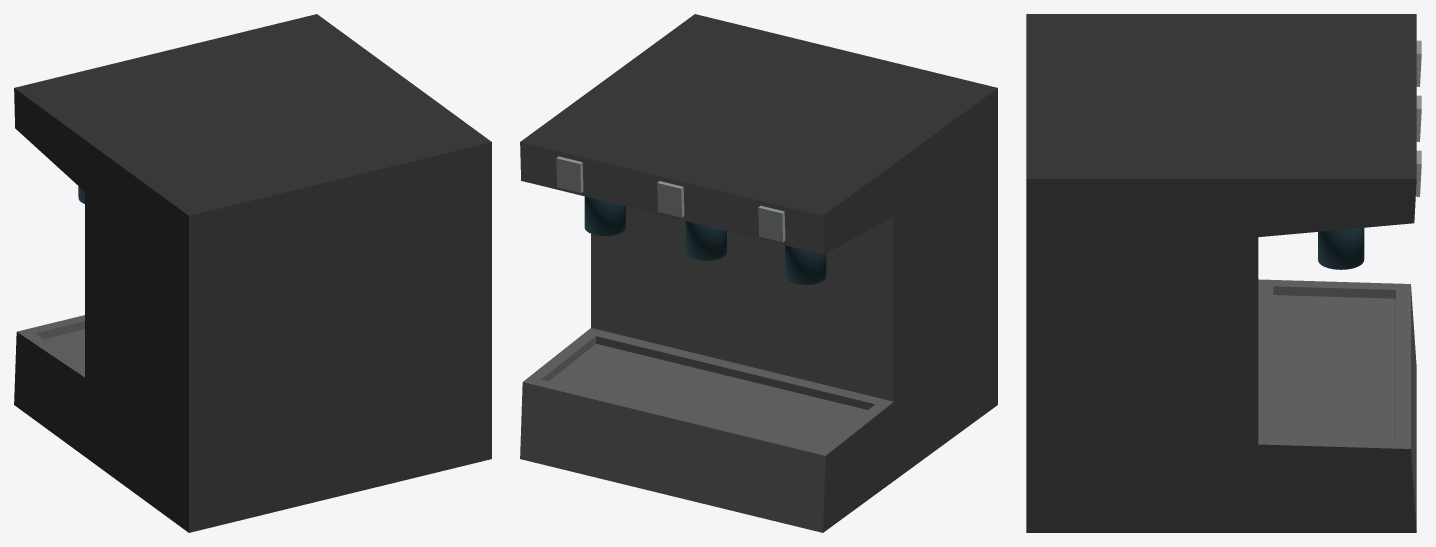
The model's file is CinemaSoftdrink.fbx.
3 renders of one model, left to right at view 1: azimuth 30°, elevation 25°; view 2: azimuth 150°, elevation 25°; view 3: azimuth 270°, elevation 25°, orthographic. The views are drawn at different scales.
Parts seen in each view (by area): view 1: Softdrinkmaschine; view 2: Softdrinkmaschine; view 3: Softdrinkmaschine.
Part boxes in pixels (bbox=[...]): Softdrinkmaschine: bbox=[14, 14, 491, 532]; Softdrinkmaschine: bbox=[520, 14, 997, 532]; Softdrinkmaschine: bbox=[1026, 14, 1421, 532].
Bounding box in the file's own units: 200 × 200 × 203.
